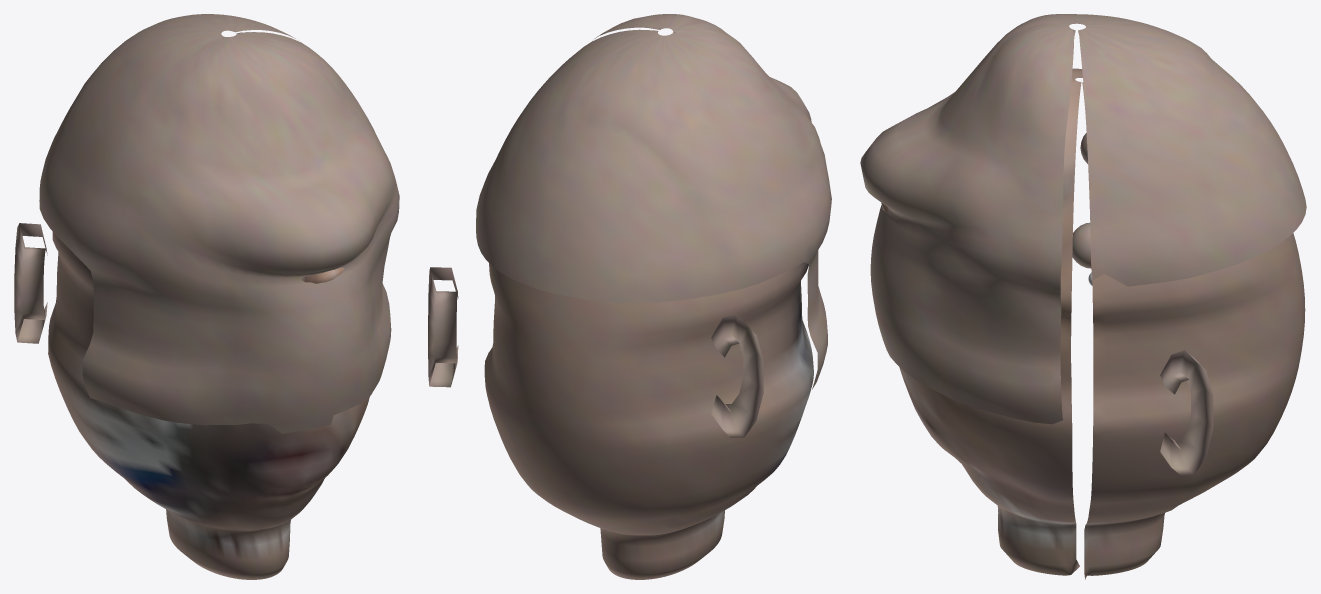
The model's file is avatar_v2_cd8acfce.glb.
3 renders of one model, left to right at view 1: azimuth 30°, elevation 25°; view 2: azimuth 150°, elevation 25°; view 3: azimuth 270°, elevation 25°, orthographic.
Parts seen in each view (by area): view 1: world; view 2: world; view 3: world.
Part boxes in pixels (x1,y1,x2,y2): world: [14, 14, 399, 579]; world: [428, 14, 831, 579]; world: [860, 14, 1306, 579].
Bounding box in the file's own units: 0.1037 × 0.1508 × 0.1148.
